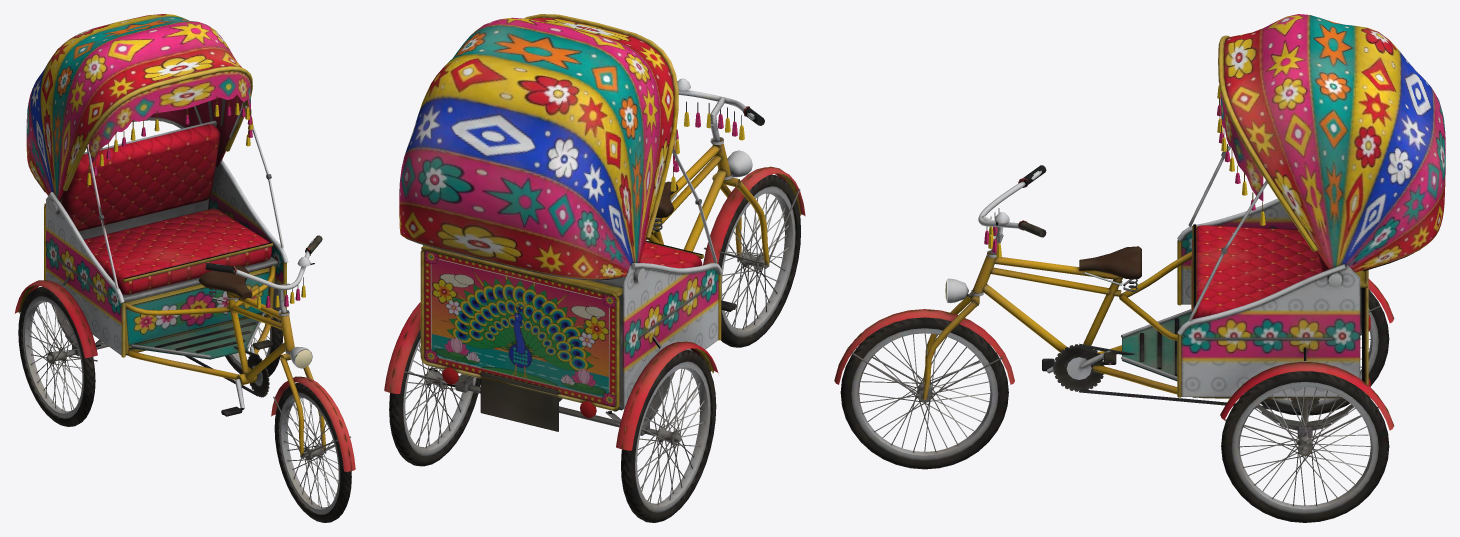
The model's file is rickshaw.glb.
3 views of the same model, side by side, from view 1: azimuth 30°, elevation 25°; view 2: azimuth 150°, elevation 25°; view 3: azimuth 270°, elevation 25° (orthographic). The views are drawn at different scales.
Visible parts, largest first — view 1: body, wheel_RR, wheel_F, steer, crank, wheel_RL; view 2: body, wheel_RR, wheel_F, steer, wheel_RL; view 3: body, wheel_RL, wheel_F, steer, wheel_RR, crank.
Part boxes in pixels (left/top/right/bottom): body: left=14, top=14, right=294, bottom=396; wheel_RR: left=18, top=286, right=95, bottom=426; wheel_F: left=274, top=383, right=351, bottom=522; steer: left=205, top=235, right=355, bottom=471; crank: left=221, top=340, right=273, bottom=416; wheel_RL: left=225, top=316, right=283, bottom=376; body: left=384, top=14, right=732, bottom=450; wheel_RR: left=621, top=350, right=716, bottom=522; wheel_F: left=718, top=174, right=800, bottom=347; steer: left=677, top=78, right=805, bottom=268; wheel_RL: left=389, top=329, right=480, bottom=466; body: left=971, top=14, right=1445, bottom=441; wheel_RL: left=1221, top=371, right=1389, bottom=522; wheel_F: left=840, top=317, right=1008, bottom=469; steer: left=834, top=165, right=1046, bottom=402; wheel_RR: left=1260, top=289, right=1389, bottom=415; crank: left=1042, top=344, right=1116, bottom=391.
Bounding box in the file's own units: 1.11 × 1.9 × 2.44.
Materials: 1 (1 with a texture image).
